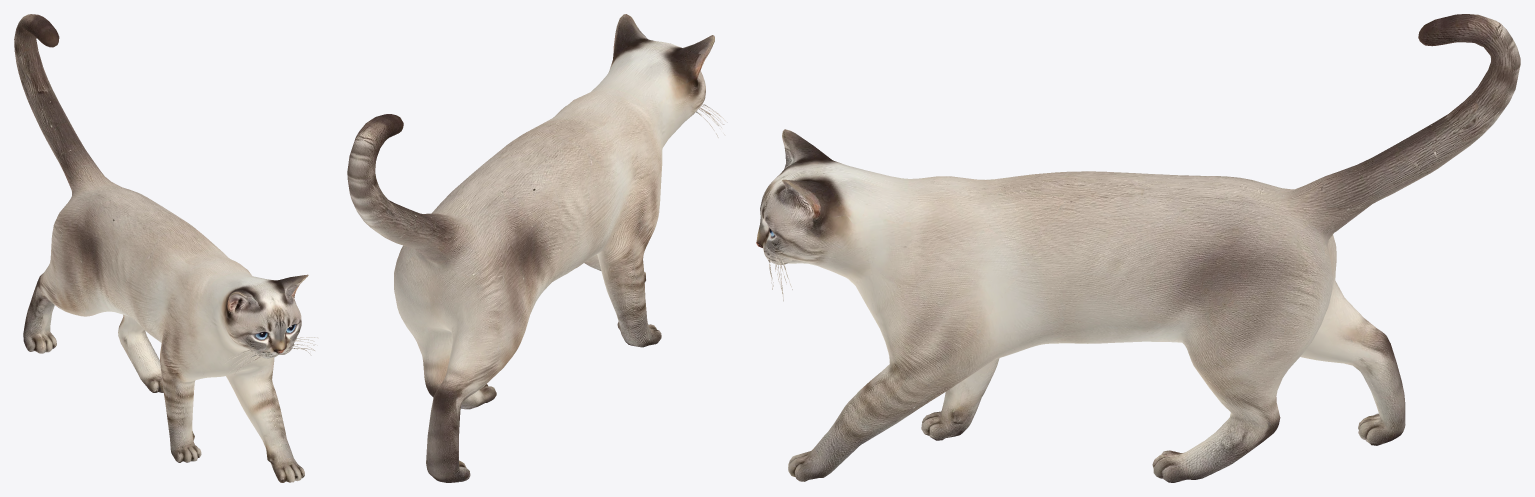
File: siamese.glb
The picture shows the model from 3 angles, left to right: view 1: azimuth 30°, elevation 25°; view 2: azimuth 150°, elevation 25°; view 3: azimuth 270°, elevation 25°; orthographic projection. The views are drawn at different scales.
Visible parts, largest first — view 1: Object_5; view 2: Object_5; view 3: Object_5.
Boxes of the visible parts, x1=… form: Object_5: x1=14, y1=14, x2=318, y2=482; Object_5: x1=347, y1=14, x2=726, y2=482; Object_5: x1=756, y1=14, x2=1520, y2=482.
Size of the model in its own units: 0.3946 by 1.22 by 1.9.
Materials: 1 (1 with a texture image).
